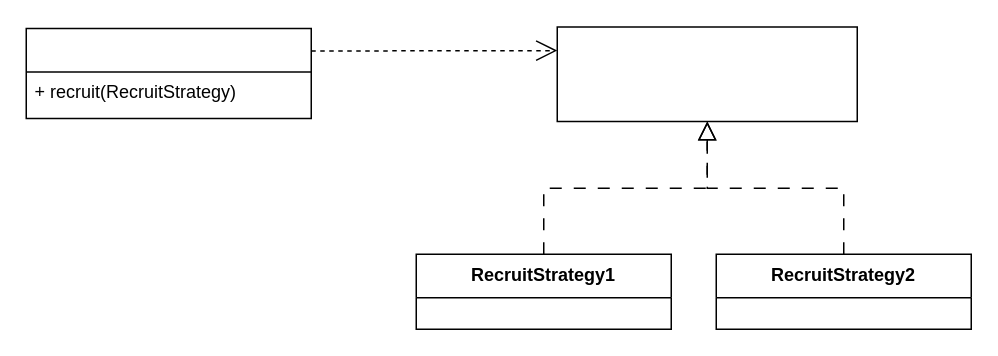
This 998x356 diagram has some shape labels left out. The shapes that lost their labels are listed below. From the top down, each one's box as (x1, y1, x2, y2) in pixels, then its label:
(25, 27, 311, 118): HRManager
(556, 26, 857, 122): <<Interface>> RecruitStrategy + isQualified()
